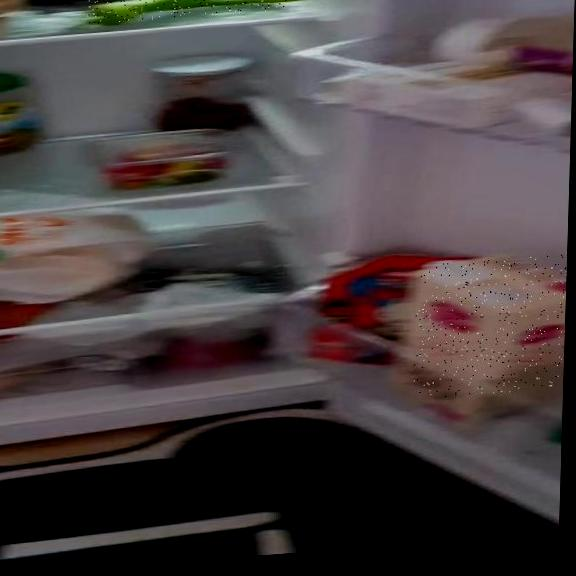green chilies: (87, 0, 288, 24)
milk: (413, 254, 567, 399)
